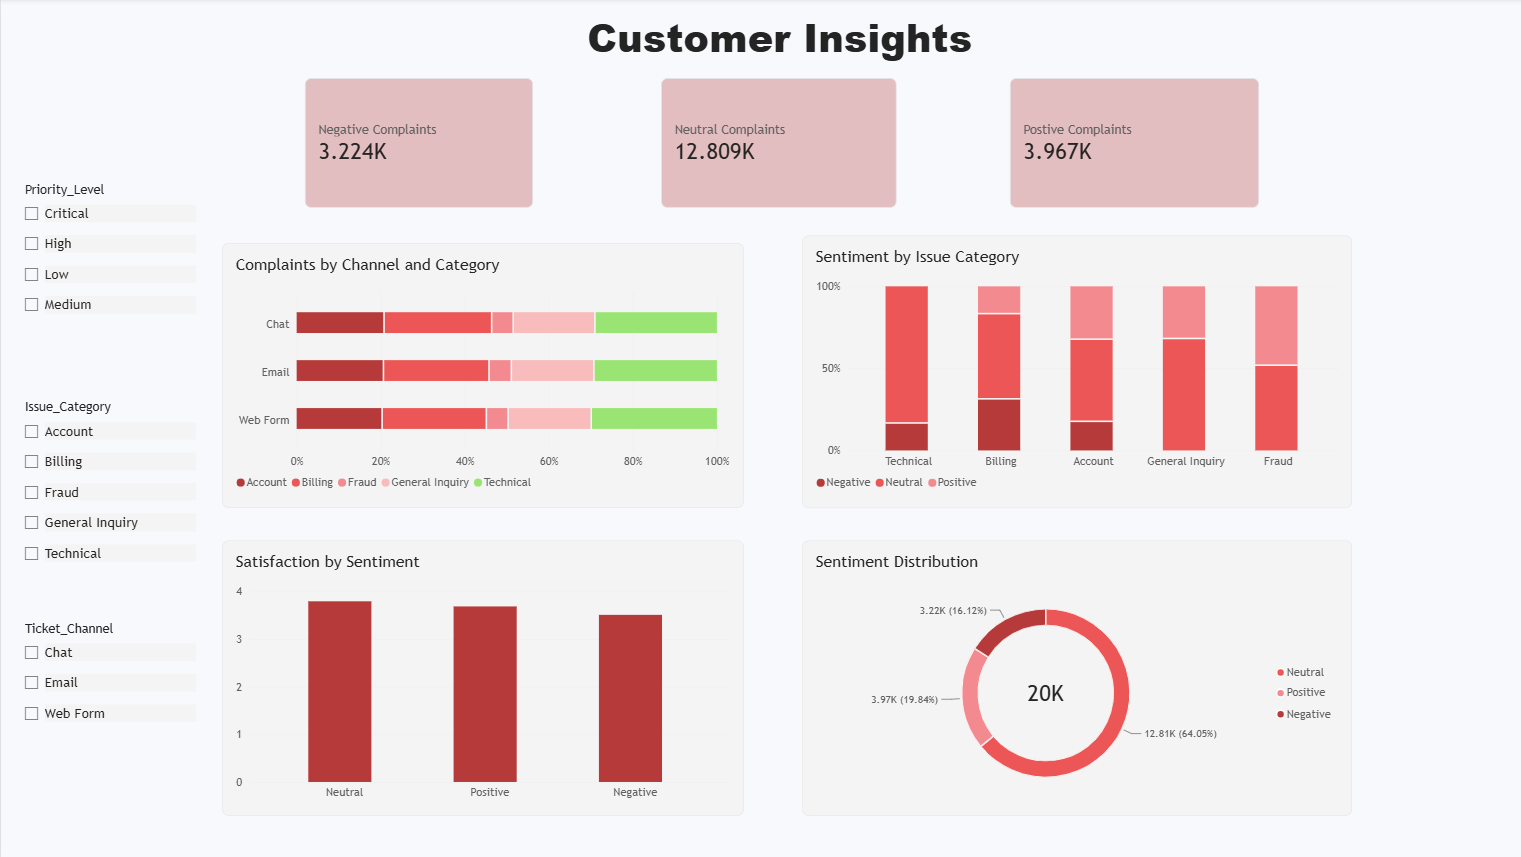

This screenshot's page, from the dashboard's own definition file:
{"tool":"powerbi","page":{"name":"Customer Insights","canvas":[1920,1080],"ordinal":1},"visuals":[{"type":"donutChart","title":"Sentiment Distribution","fields":{"Category":["customer_complaint_processed.NLP_Sentiment"],"Y":["CountNonNull(customer_complaint_processed.Ticket_ID)"]},"box":[999.3,676.6,685.9,343],"z":1000},{"type":"hundredPercentStackedColumnChart","title":"Sentiment by Issue Category","fields":{"Category":["customer_complaint_processed.Issue_Category"],"Series":["customer_complaint_processed.NLP_Sentiment"],"Y":["CountNonNull(customer_complaint_processed.Ticket_ID)"]},"box":[999.3,296.2,685.9,339.8],"z":2000},{"type":"hundredPercentStackedBarChart","title":"Complaints by Channel and Category","fields":{"Category":["customer_complaint_processed.Ticket_Channel"],"Series":["customer_complaint_processed.Issue_Category"],"Y":["CountNonNull(customer_complaint_processed.Ticket_ID)"]},"box":[275.9,305.5,650.1,330.5],"z":3000},{"type":"columnChart","title":" Satisfaction by Sentiment","fields":{"Category":["customer_complaint_processed.NLP_Sentiment"],"Y":["Avg(customer_complaint_processed.Satisfaction_Score)"]},"box":[275.9,676.6,650.1,343],"z":4000},{"type":"slicer","title":"ugghj","fields":{"Values":["customer_complaint_processed.Priority_Level"]},"box":[21.8,229.2,221.4,271.2],"z":5000},{"type":"slicer","fields":{"Values":["customer_complaint_processed.Issue_Category"]},"box":[21.8,500.4,221.4,271.2],"z":6000},{"type":"slicer","fields":{"Values":["customer_complaint_processed.Ticket_Channel"]},"box":[21.8,776.3,221.4,243.2],"z":9000},{"type":"cardVisual","fields":{"Data":["CountNonNull(customer_complaint_processed.Ticket_ID)"]},"box":[378.8,99.8,285.3,162.1],"z":9001},{"type":"cardVisual","fields":{"Data":["CountNonNull(customer_complaint_processed.Ticket_ID)"]},"box":[1258,99.8,311.8,162.1],"z":9002},{"type":"cardVisual","fields":{"Data":["CountNonNull(customer_complaint_processed.Ticket_ID)"]},"box":[823.1,99.8,294.6,162.1],"z":9003},{"type":"textbox","box":[21.8,14,1898.7,85.7],"z":9004}]}

Visuals, with their boxes in screenshot pixels (x1, y1, x2, y2), scaled from the page's 1920x1080 canvas onto the 1521x857 screenshot:
"Sentiment Distribution" donutChart: [x1=792, y1=537, x2=1335, y2=809]
"Sentiment by Issue Category" hundredPercentStackedColumnChart: [x1=792, y1=235, x2=1335, y2=505]
"Complaints by Channel and Category" hundredPercentStackedBarChart: [x1=219, y1=242, x2=734, y2=505]
" Satisfaction by Sentiment" columnChart: [x1=219, y1=537, x2=734, y2=809]
"ugghj" slicer: [x1=17, y1=182, x2=193, y2=397]
slicer - customer_complaint_processed.Issue_Category: [x1=17, y1=397, x2=193, y2=612]
slicer - customer_complaint_processed.Ticket_Channel: [x1=17, y1=616, x2=193, y2=809]
cardVisual - CountNonNull(customer_complaint_processed.Ticket_ID): [x1=300, y1=79, x2=526, y2=208]
cardVisual - CountNonNull(customer_complaint_processed.Ticket_ID): [x1=997, y1=79, x2=1244, y2=208]
cardVisual - CountNonNull(customer_complaint_processed.Ticket_ID): [x1=652, y1=79, x2=885, y2=208]
textbox: [x1=17, y1=11, x2=1520, y2=79]
